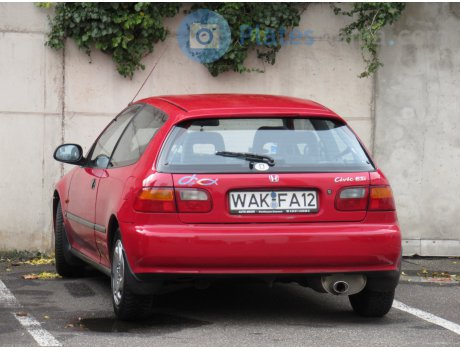License Plates: (228, 193, 316, 208)
